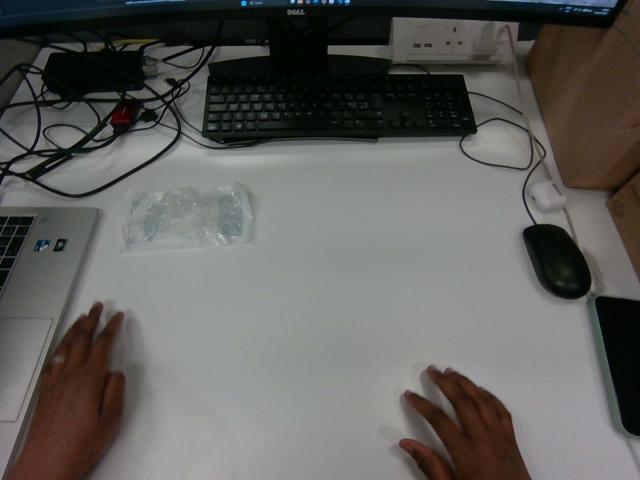gallipot: (122, 182, 252, 251)
